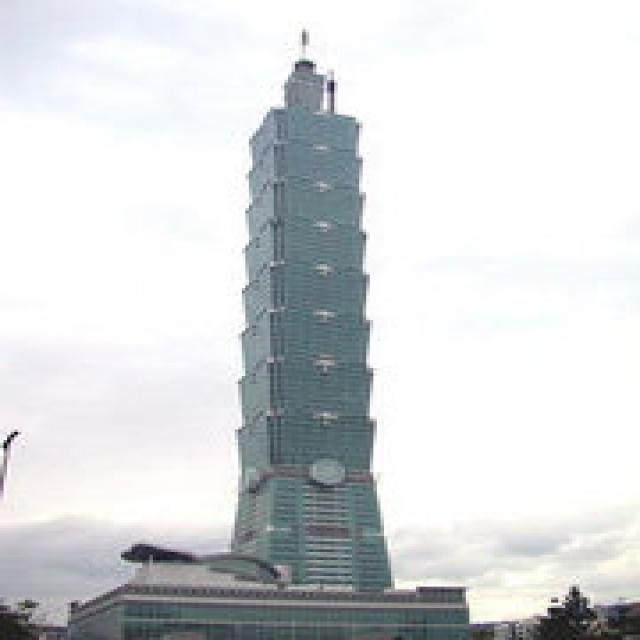building: (231, 25, 394, 593), (75, 544, 471, 640)
